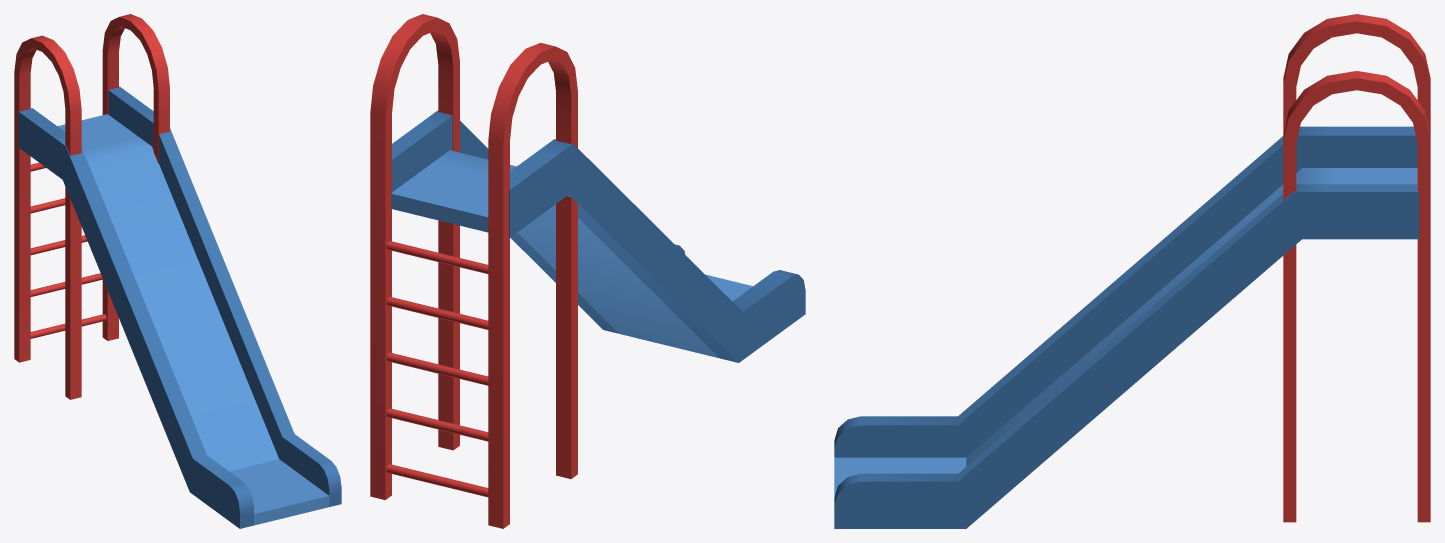
The model's file is Slide_04.fbx.
The picture shows the model from 3 angles, left to right: view 1: azimuth 30°, elevation 25°; view 2: azimuth 150°, elevation 25°; view 3: azimuth 270°, elevation 25°; orthographic projection. The views are drawn at different scales.
Visible parts, largest first — view 1: Slide_04; view 2: Slide_04; view 3: Slide_04.
Part boxes in pixels (x1,y1,x2,y2): Slide_04: [14, 14, 341, 528]; Slide_04: [370, 14, 805, 528]; Slide_04: [834, 14, 1430, 528].
Bounding box in the file's own units: 0.5713 × 1.83 × 2.2.
